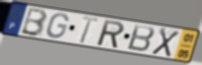B: (125, 23, 157, 53), (19, 7, 49, 38)
G: (45, 13, 70, 40)
R: (97, 19, 126, 50)
T: (78, 15, 100, 45)
X: (150, 27, 181, 59)
